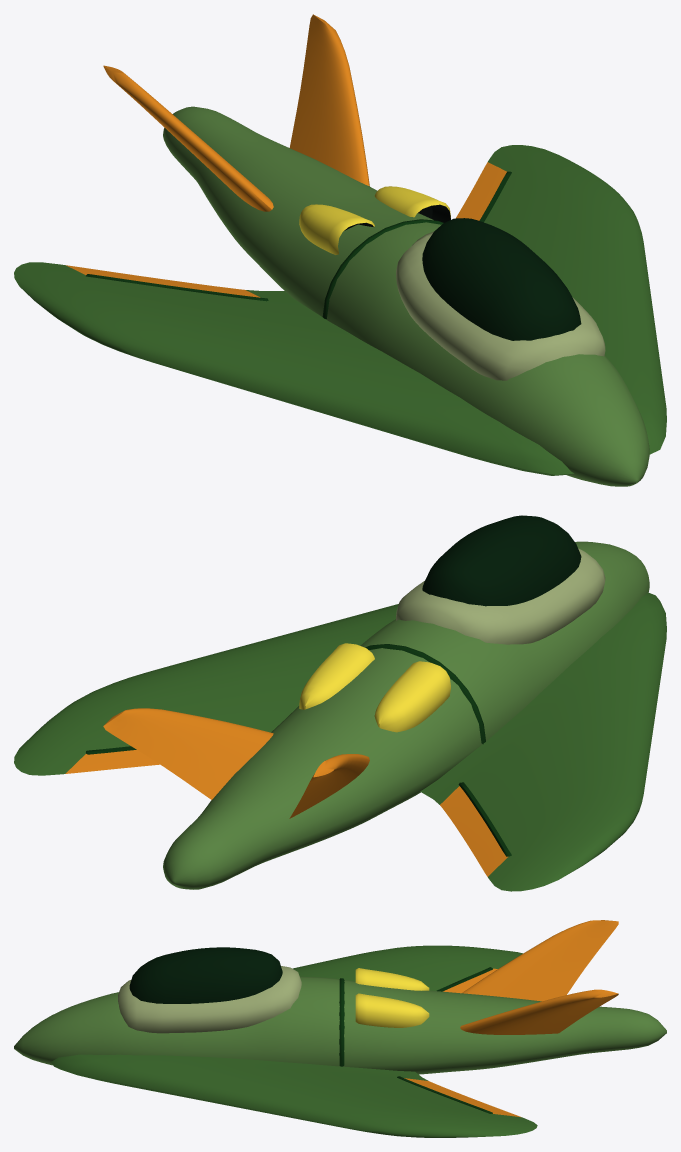
The model's file is jet_green.glb.
The picture shows the model from 3 angles, top to bottom: view 1: azimuth 30°, elevation 25°; view 2: azimuth 150°, elevation 25°; view 3: azimuth 270°, elevation 25°; orthographic projection. The views are drawn at different scales.
Visible parts, largest first — view 1: fuselage, wing_l, wing_r, canopy, sill, fin_r, fin_l, scoop_l, scoop_r, seam; view 2: fuselage, wing_l, wing_r, canopy, fin_r, sill, scoop_l, scoop_r, fin_l, seam; view 3: fuselage, wing_r, canopy, fin_l, wing_l, sill, fin_r, scoop_r, scoop_l, seam.
Part boxes in pixels (<box>): fuselage: <box>163,106,649,486</box>; wing_l: <box>14,262,573,475</box>; wing_r: <box>455,145,666,454</box>; canopy: <box>422,218,581,340</box>; sill: <box>396,231,605,380</box>; fin_r: <box>289,14,369,186</box>; fin_l: <box>103,65,273,211</box>; scoop_l: <box>299,204,374,254</box>; scoop_r: <box>374,186,450,222</box>; seam: <box>322,219,443,318</box>; fuselage: <box>163,541,649,889</box>; wing_l: <box>420,592,666,891</box>; wing_r: <box>14,604,398,775</box>; canopy: <box>422,515,581,606</box>; fin_r: <box>103,708,273,799</box>; sill: <box>396,548,605,644</box>; scoop_l: <box>374,661,450,732</box>; scoop_r: <box>299,643,374,709</box>; fin_l: <box>289,754,369,818</box>; seam: <box>365,644,485,744</box>; fuselage: <box>14,976,666,1074</box>; wing_r: <box>51,1054,537,1137</box>; canopy: <box>129,947,282,1003</box>; fin_l: <box>462,920,618,1001</box>; wing_l: <box>292,945,522,993</box>; sill: <box>118,966,301,1033</box>; fin_r: <box>460,989,618,1034</box>; scoop_r: <box>355,993,429,1027</box>; scoop_l: <box>355,968,429,990</box>; seam: <box>339,978,344,1066</box>.
Bounding box in the file's own units: 16.6 × 4.78 × 24.3.
